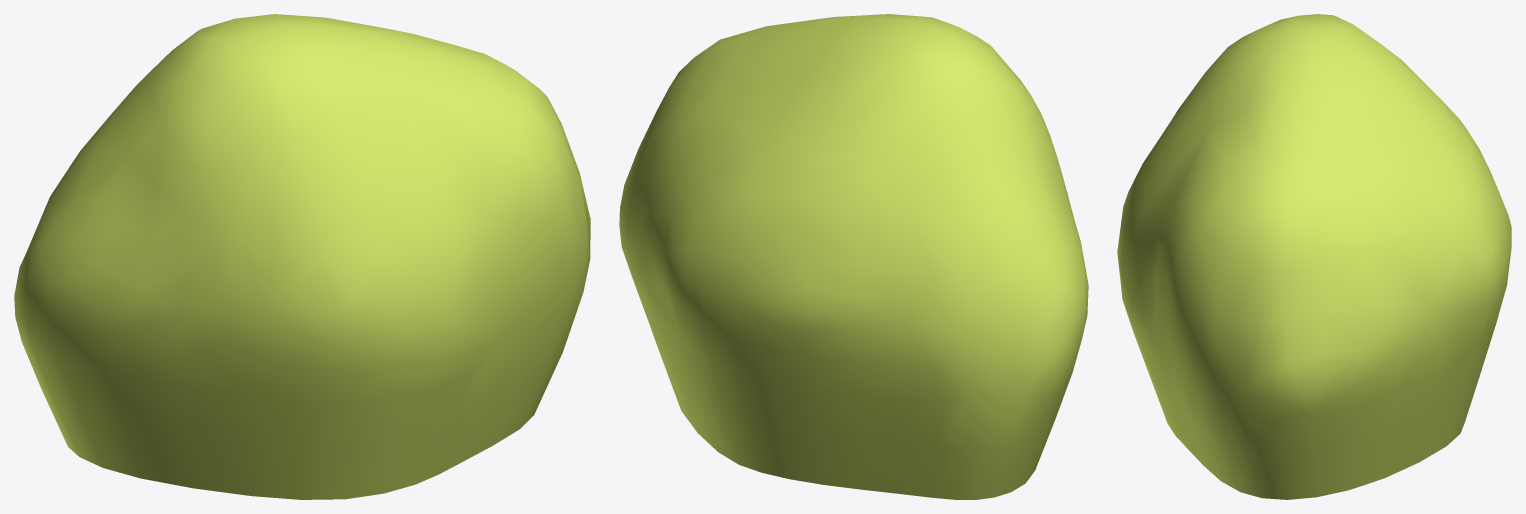
Rendered from BigBush_C.fbx.
The picture shows the model from 3 angles, left to right: view 1: azimuth 30°, elevation 25°; view 2: azimuth 150°, elevation 25°; view 3: azimuth 270°, elevation 25°; orthographic projection. The views are drawn at different scales.
Visible parts, largest first — view 1: Bush_b_l_02; view 2: Bush_b_l_02; view 3: Bush_b_l_02.
Boxes of the visible parts, bbox=[...] form: Bush_b_l_02: bbox=[14, 14, 590, 499]; Bush_b_l_02: bbox=[619, 14, 1088, 499]; Bush_b_l_02: bbox=[1117, 14, 1511, 499].
Size of the model in its own units: 359 by 283 by 276.
